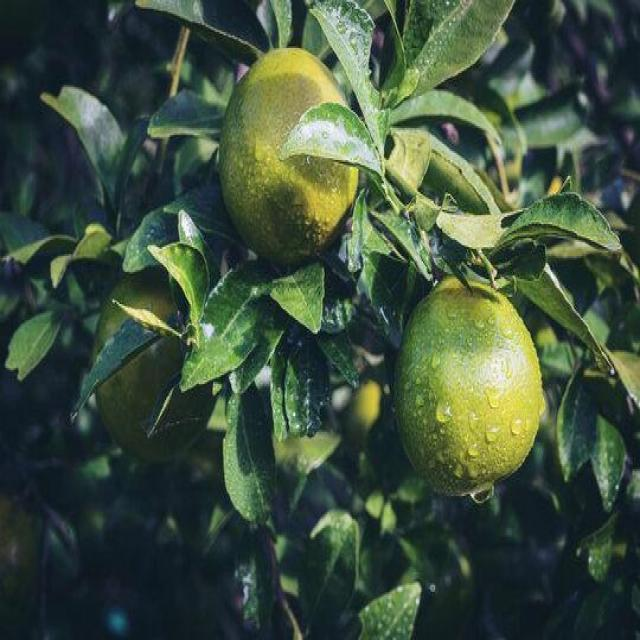Jeruk Belum Matang: (394, 277, 542, 491), (220, 46, 362, 263), (95, 272, 214, 459)
